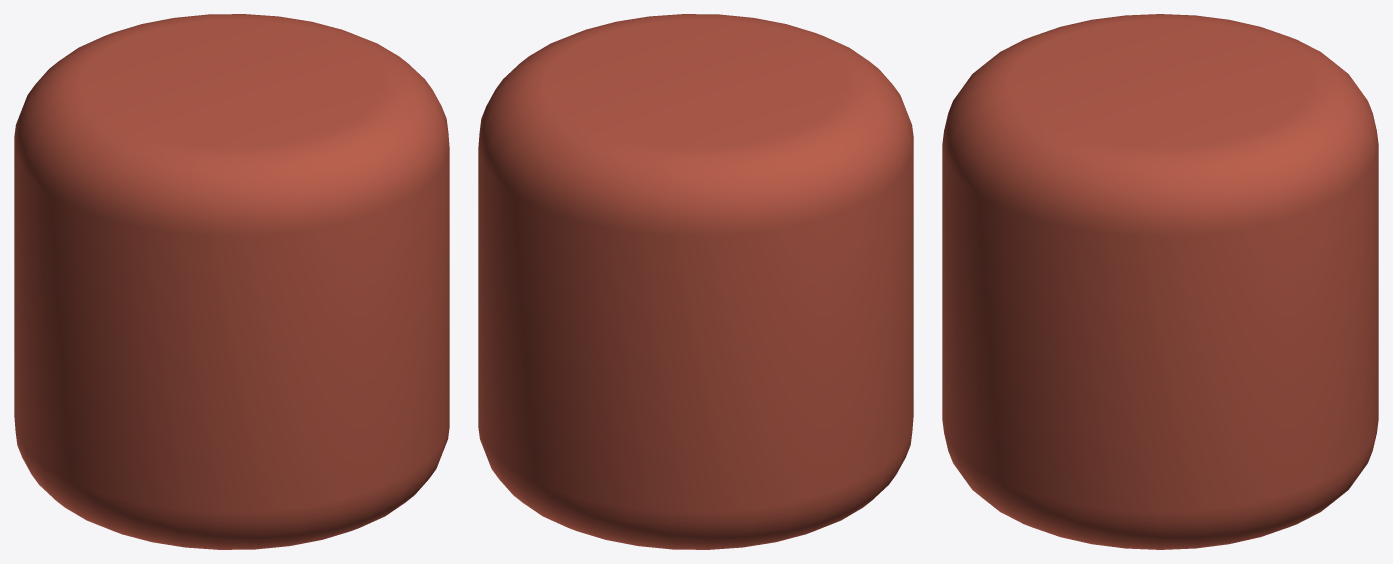
Rendered from joint.dae.
3 views of the same model, side by side, from view 1: azimuth 30°, elevation 25°; view 2: azimuth 150°, elevation 25°; view 3: azimuth 270°, elevation 25° (orthographic).
Visible parts, largest first — view 1: Cylinder; view 2: Cylinder; view 3: Cylinder.
Boxes of the visible parts, x1,y1,x2,y2 form: Cylinder: [14, 14, 449, 549]; Cylinder: [478, 14, 913, 549]; Cylinder: [942, 14, 1378, 549].
Size of the model in its own units: 0.08 by 0.08 by 0.08.
